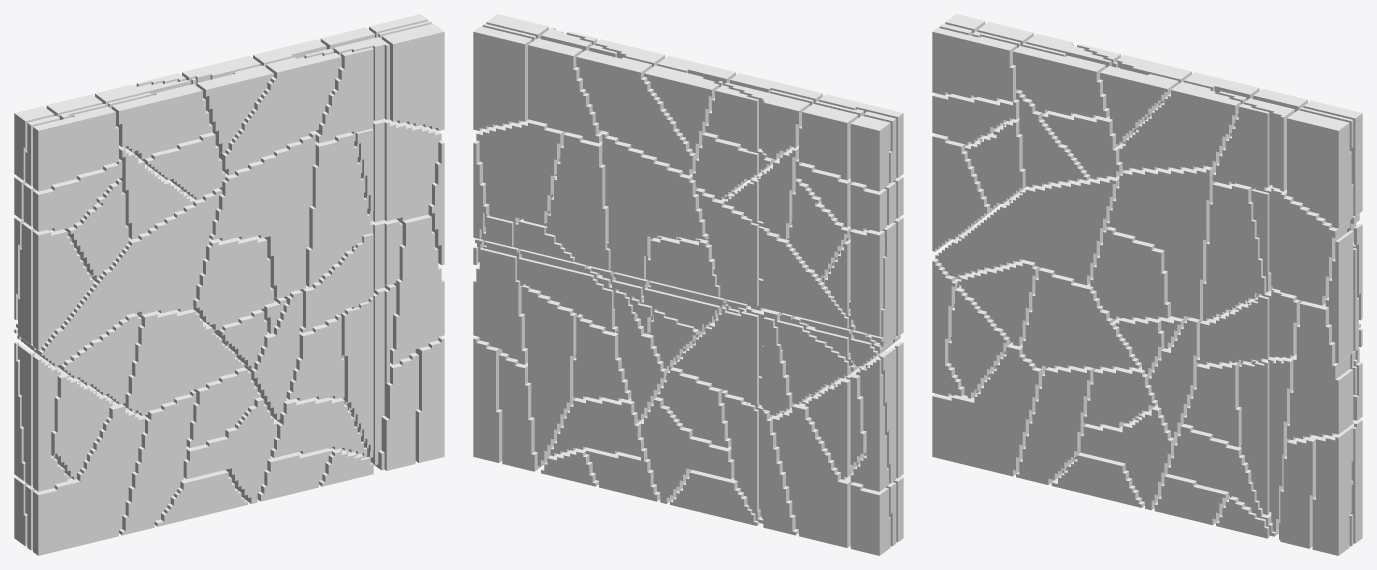
Rendered from Operating_room_wall1-2.fbx.
3 renders of one model, left to right at view 1: azimuth 30°, elevation 25°; view 2: azimuth 150°, elevation 25°; view 3: azimuth 330°, elevation 25°, orthographic.
Parts seen in each view (by area): view 1: Operating room wall1-2.011, Operating room wall1-2.077, Operating room wall1-2.018, Operating room wall1-2.008, Operating room wall1-2.082, Operating room wall1-2.108, Operating room wall1-2.126, Operating room wall1-2.040, Operating room wall1-2.128, Operating room wall1-2.129, Operating room wall1-2.038, Operating room wall1-2.062 (+39 smaller); view 2: Operating room wall1-2.075, Operating room wall1-2.084, Operating room wall1-2.023, Operating room wall1-2.125, Operating room wall1-2.091, Operating room wall1-2.120, Operating room wall1-2.110, Operating room wall1-2.115, Operating room wall1-2.130, Operating room wall1-2.034, Operating room wall1-2.054, Operating room wall1-2.064 (+53 smaller); view 3: Operating room wall1-2.011, Operating room wall1-2.077, Operating room wall1-2.018, Operating room wall1-2.008, Operating room wall1-2.082, Operating room wall1-2.128, Operating room wall1-2.108, Operating room wall1-2.129, Operating room wall1-2.126, Operating room wall1-2.040, Operating room wall1-2.038, Operating room wall1-2.062 (+36 smaller).
Boxes of the visible parts, left/top/right/bottom form: Operating room wall1-2.011: left=36, top=188, right=273, bottom=415; Operating room wall1-2.077: left=209, top=131, right=315, bottom=298; Operating room wall1-2.018: left=33, top=402, right=144, bottom=555; Operating room wall1-2.008: left=33, top=106, right=122, bottom=231; Operating room wall1-2.082: left=219, top=53, right=341, bottom=175; Operating room wall1-2.108: left=306, top=132, right=370, bottom=287; Operating room wall1-2.126: left=351, top=118, right=441, bottom=222; Operating room wall1-2.040: left=119, top=390, right=196, bottom=535; Operating room wall1-2.128: left=390, top=214, right=444, bottom=364; Operating room wall1-2.129: left=382, top=23, right=444, bottom=130; Operating room wall1-2.038: left=111, top=84, right=212, bottom=159; Operating room wall1-2.062: left=183, top=397, right=276, bottom=503; Operating room wall1-2.075: left=602, top=131, right=708, bottom=278; Operating room wall1-2.084: left=576, top=50, right=698, bottom=175; Operating room wall1-2.023: left=773, top=396, right=853, bottom=547; Operating room wall1-2.125: left=476, top=119, right=566, bottom=224; Operating room wall1-2.091: left=550, top=397, right=660, bottom=501; Operating room wall1-2.120: left=521, top=285, right=576, bottom=466; Operating room wall1-2.110: left=547, top=132, right=610, bottom=270; Operating room wall1-2.115: left=528, top=38, right=605, bottom=143; Operating room wall1-2.130: left=473, top=26, right=532, bottom=130; Operating room wall1-2.034: left=795, top=104, right=858, bottom=227; Operating room wall1-2.054: left=673, top=307, right=758, bottom=404; Operating room wall1-2.064: left=641, top=397, right=734, bottom=503; Operating room wall1-2.011: left=935, top=176, right=1170, bottom=369; Operating room wall1-2.077: left=1106, top=165, right=1215, bottom=319; Operating room wall1-2.018: left=932, top=342, right=1045, bottom=476; Operating room wall1-2.008: left=932, top=27, right=1019, bottom=144; Operating room wall1-2.082: left=1119, top=82, right=1240, bottom=170; Operating room wall1-2.128: left=1287, top=301, right=1353, bottom=440; Operating room wall1-2.108: left=1203, top=182, right=1266, bottom=321; Operating room wall1-2.129: left=1287, top=110, right=1353, bottom=228; Operating room wall1-2.126: left=1255, top=185, right=1350, bottom=305; Operating room wall1-2.040: left=1016, top=366, right=1096, bottom=484; Operating room wall1-2.038: left=1013, top=46, right=1109, bottom=118; Operating room wall1-2.062: left=1080, top=404, right=1177, bottom=510.
Bounding box in the file's own units: 1260 × 1260 × 130.
